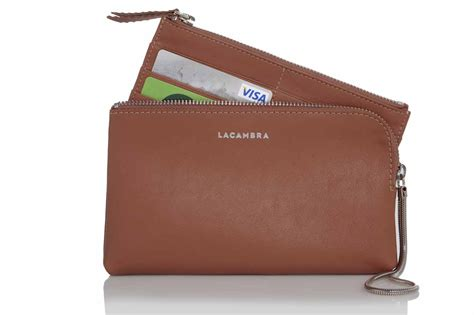cuero: (103, 8, 410, 275)
